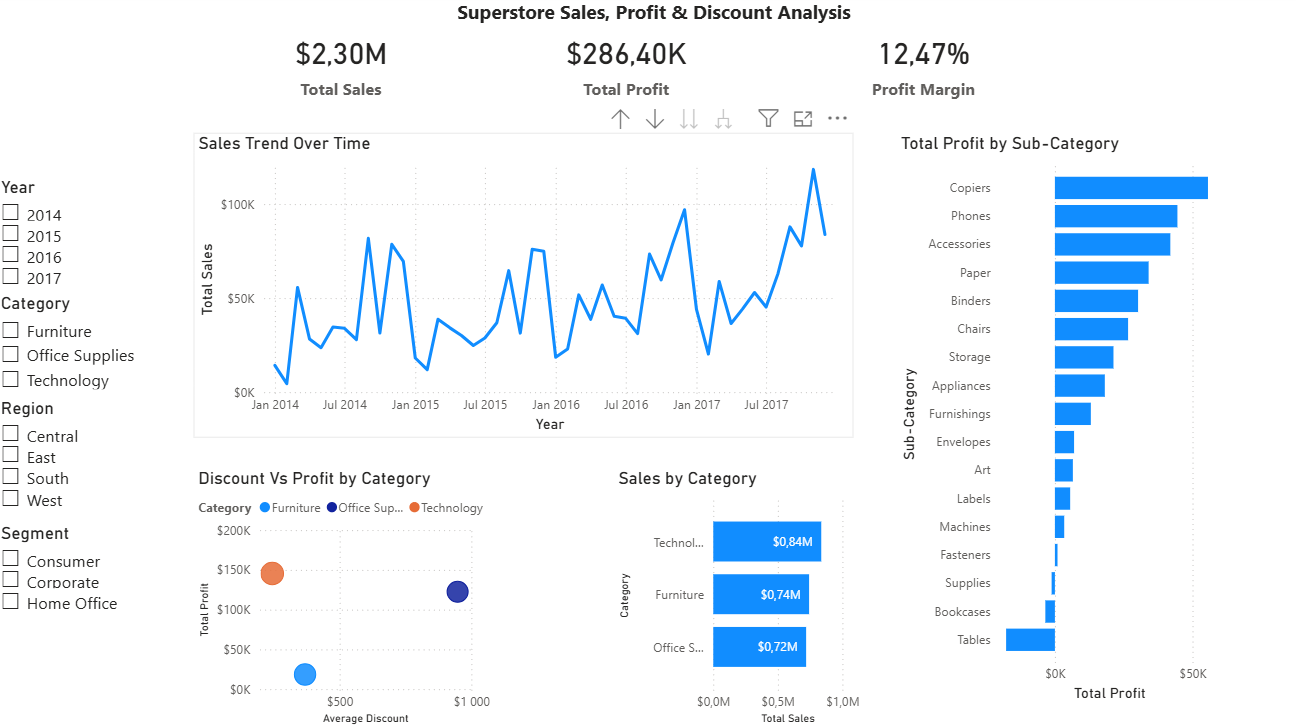

This screenshot's page, from the dashboard's own definition file:
{"tool":"powerbi","page":{"name":"Page 1","canvas":[1280,720],"ordinal":0},"visuals":[{"type":"card","title":"Total Sales","fields":{"Values":["Sample - Superstore.Total Sales"]},"box":[251.4,0,171.5,135.8],"z":0},{"type":"listSlicer","fields":{"Values":["Sample - Superstore.Order Date.Variation.Date Hierarchy.Year"]},"box":[0,178.4,150.9,201.7],"z":1000},{"type":"card","fields":{"Values":["Sample - Superstore.Total Profit"]},"box":[517.6,0,199,135.8],"z":2000},{"type":"card","fields":{"Values":["Sample - Superstore.Profit Margin"]},"box":[811.3,0,193.5,135.8],"z":3000},{"type":"clusteredBarChart","title":"Sales by Category","fields":{"Category":["Sample - Superstore.Category"],"Y":["Sample - Superstore.Total Sales"]},"box":[603.8,463.8,266.2,256.6],"z":4000},{"type":"clusteredBarChart","fields":{"Category":["Sample - Superstore.Sub-Category"],"Y":["Sample - Superstore.Total Profit"]},"box":[881,135.8,336.2,561.2],"z":5000},{"type":"lineChart","title":"Sales Trend Over Time","fields":{"Y":["Sample - Superstore.Total Sales"],"Category":["Sample - Superstore.Order Date.Variation.Date Hierarchy.Year","Sample - Superstore.Order Date.Variation.Date Hierarchy.Month"]},"box":[193.5,135.8,644.9,297.8],"z":6000},{"type":"listSlicer","fields":{"Values":["Sample - Superstore.Category"]},"box":[0,292.3,153.7,225],"z":7000},{"type":"listSlicer","fields":{"Values":["Sample - Superstore.Region"]},"box":[0,395.2,102.9,196.2],"z":8000},{"type":"listSlicer","fields":{"Values":["Sample - Superstore.Segment"]},"box":[0,517.3,137.2,203.1],"z":9000},{"type":"scatterChart","title":"Discount Vs Profit by Category","fields":{"X":["Sum(Sample - Superstore.Discount)"],"Y":["Sample - Superstore.Total Profit"],"Size":["Sample - Superstore.Total Sales"],"Series":["Sample - Superstore.Category"]},"box":[193.5,463.8,295,256.6],"z":10000},{"type":"textbox","box":[446,0,416,37],"z":10001}]}

Visuals, with their boxes in screenshot pixels (x1, y1, x2, y2), scaled from the page's 1280x720 canvas onto the 1296x727 screenshot:
"Total Sales" card: crop(255, 0, 428, 137)
listSlicer - Sample - Superstore.Order Date.Variation.Date Hierarchy.Year: crop(0, 180, 153, 384)
card - Sample - Superstore.Total Profit: crop(524, 0, 726, 137)
card - Sample - Superstore.Profit Margin: crop(821, 0, 1017, 137)
"Sales by Category" clusteredBarChart: crop(611, 468, 881, 726)
clusteredBarChart - Sample - Superstore.Sub-Category x Sample - Superstore.Total Profit: crop(892, 137, 1232, 704)
"Sales Trend Over Time" lineChart: crop(196, 137, 849, 438)
listSlicer - Sample - Superstore.Category: crop(0, 295, 156, 522)
listSlicer - Sample - Superstore.Region: crop(0, 399, 104, 597)
listSlicer - Sample - Superstore.Segment: crop(0, 522, 139, 726)
"Discount Vs Profit by Category" scatterChart: crop(196, 468, 495, 726)
textbox: crop(452, 0, 873, 37)
